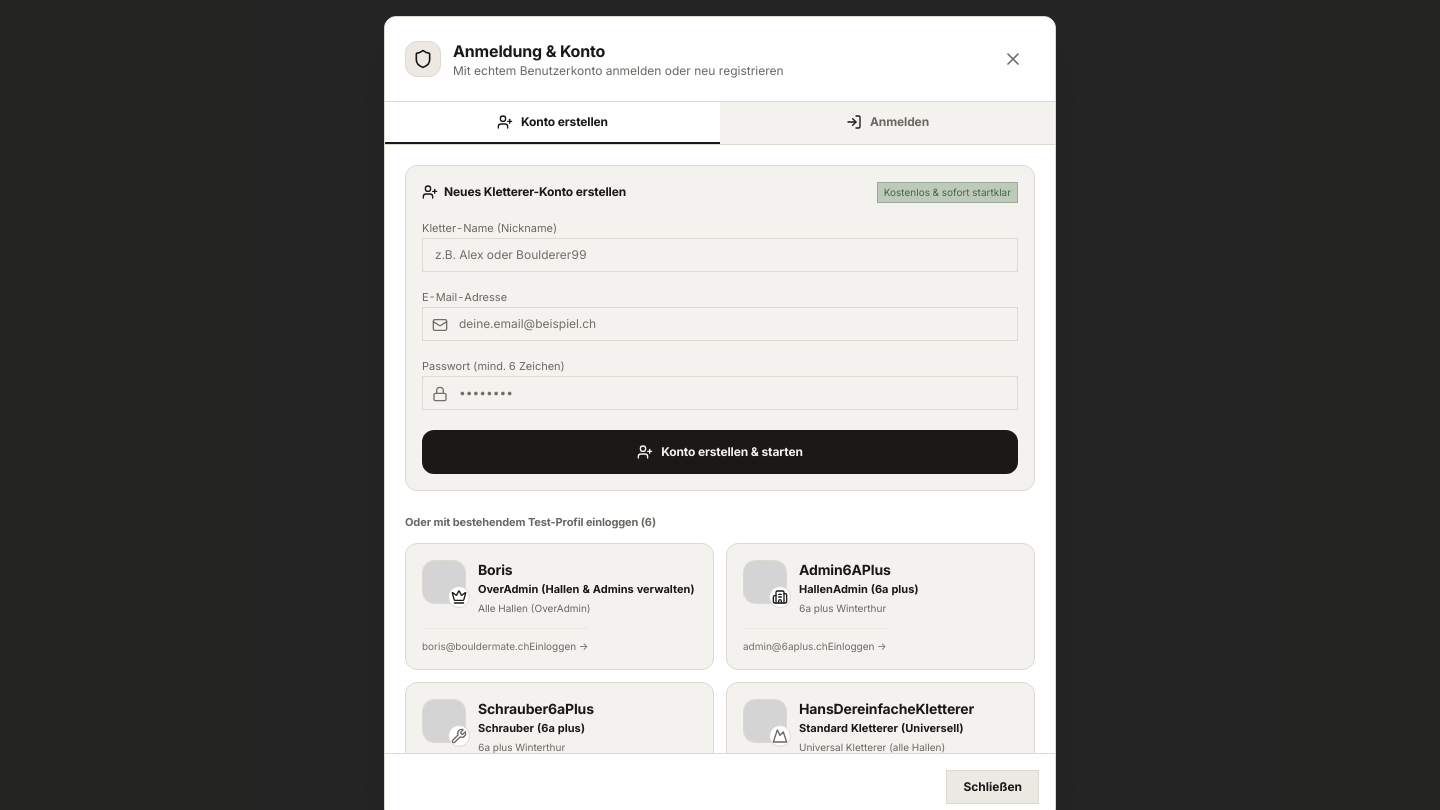
Test: Real User Authentication (Supabase Auth & LoginModal MVP) › LoginModal: UI für Registrierung & Anmeldung › wechselt zwischen Tabs: Konto erstellen und Anmelden
This screenshot has width=1440, height=810.
Expected: the field with test id "input-register-email" is shown, x1=422 y1=307 x2=1018 y2=341
Expected: the button with test id "btn-register-submit" is shown, x1=422 y1=430 x2=1018 y2=474
// Klick auf "Anmelden"
Click the button with test id "tab-login" at {"x": 888, "y": 123}, box x1=720 y1=102 x2=1055 y2=144
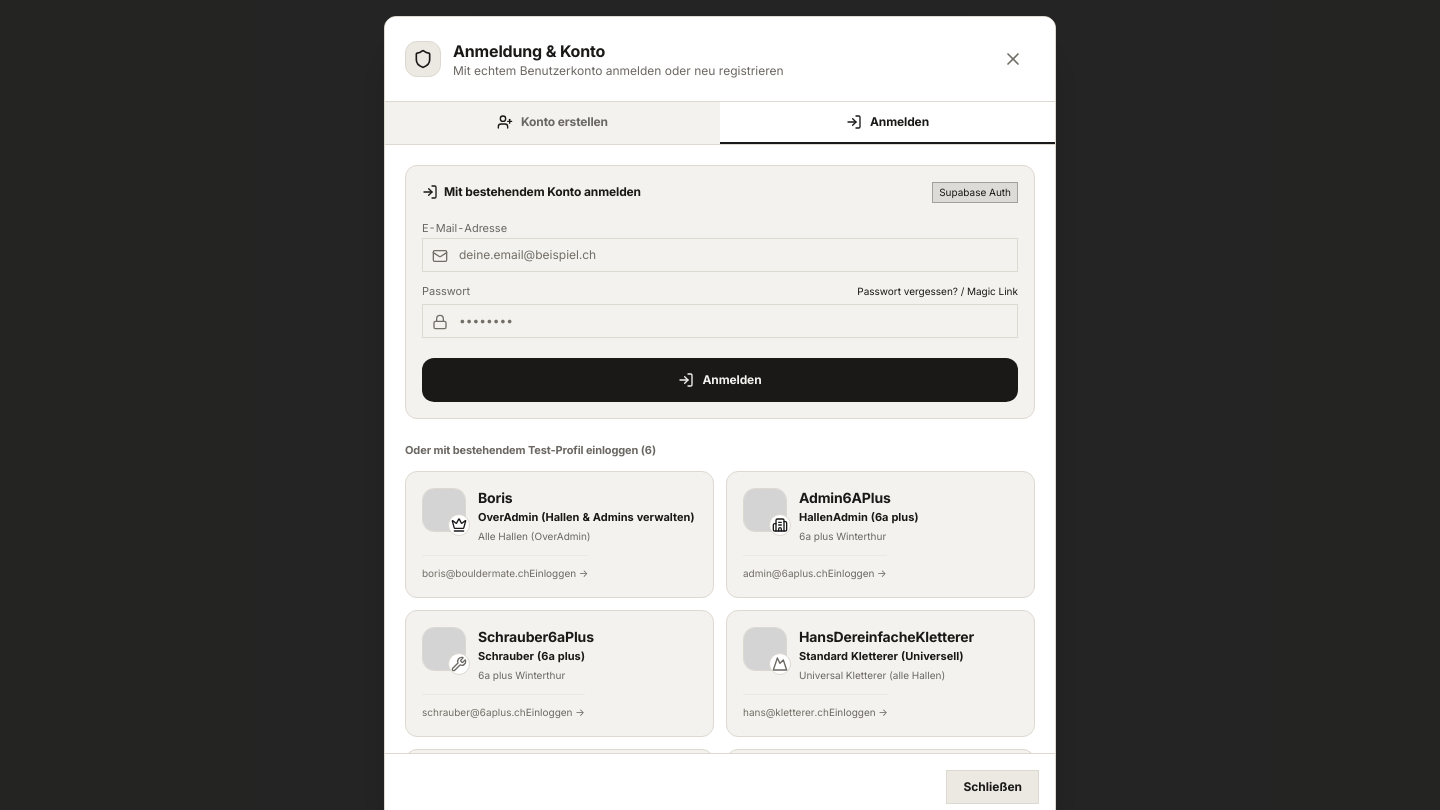
Now the field with test id "input-login-email" is shown, box x1=422 y1=238 x2=1018 y2=272
Now the password field with test id "input-login-password" is shown, box x1=422 y1=304 x2=1018 y2=338
Now the button with test id "btn-login-submit" is shown, box x1=422 y1=358 x2=1018 y2=402
